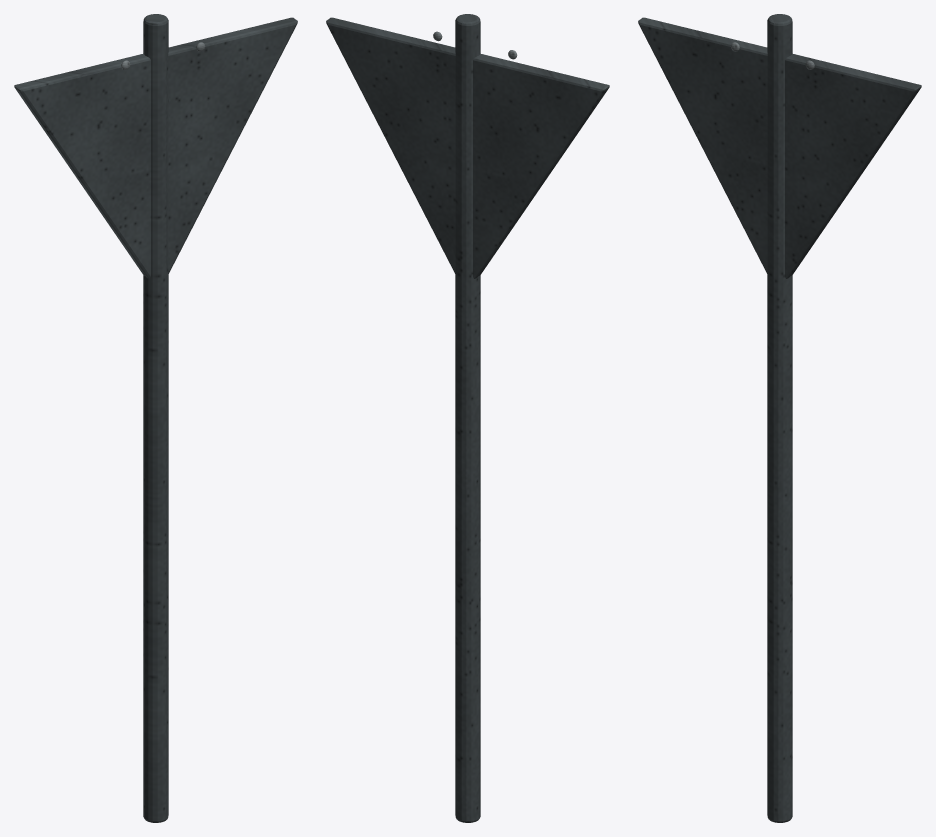
File: PROP-A0EEC9A844C4_lod0.glb
3 views of the same model, side by side, from view 1: azimuth 30°, elevation 25°; view 2: azimuth 150°, elevation 25°; view 3: azimuth 330°, elevation 25° (orthographic).
Visible parts, largest first — view 1: shaped_sign_plate.011, sign_post.033; view 2: shaped_sign_plate.011, sign_post.033; view 3: shaped_sign_plate.011, sign_post.033.
Boxes of the visible parts, <box> form: shaped_sign_plate.011: <box>14,17,297,278</box>; sign_post.033: <box>143,14,168,822</box>; shaped_sign_plate.011: <box>326,17,609,278</box>; sign_post.033: <box>455,14,480,822</box>; shaped_sign_plate.011: <box>638,17,921,278</box>; sign_post.033: <box>767,14,792,822</box>.
Size of the model in its own units: 0.8944 by 2.45 by 0.083.
Materials: 2 (2 with a texture image).
